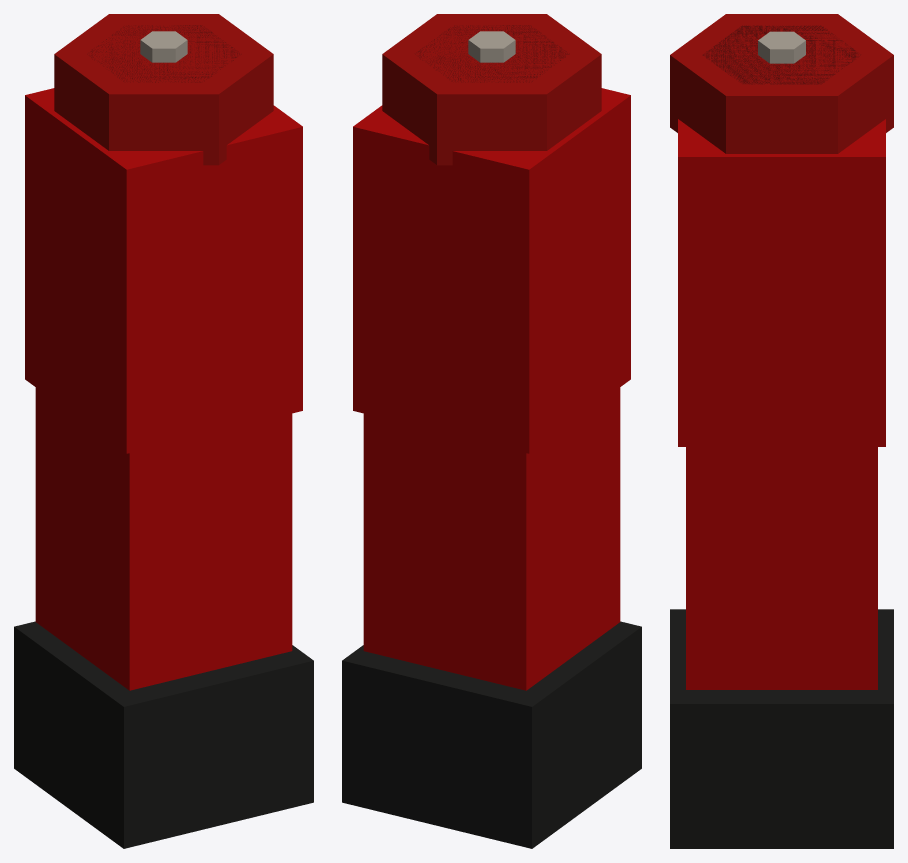
The model's file is soviet_arm_l.glb.
3 renders of one model, left to right at view 1: azimuth 30°, elevation 25°; view 2: azimuth 150°, elevation 25°; view 3: azimuth 270°, elevation 25°, orthographic. The views are drawn at different scales.
Parts seen in each view (by area): view 1: soviet_arm_L; view 2: soviet_arm_L; view 3: soviet_arm_L.
Part boxes in pixels (<box>): soviet_arm_L: <box>14,14,313,848</box>; soviet_arm_L: <box>342,14,641,848</box>; soviet_arm_L: <box>670,14,893,848</box>.
Bounding box in the file's own units: 0.28 × 1.05 × 0.28.
